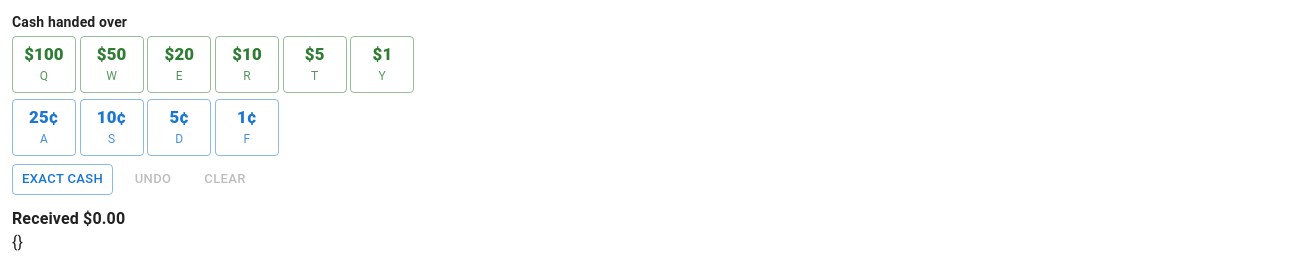
CashTenderPad (2026-10-21, cash by denomination) › a right-click takes one back; Exact cash fills the amount due; Clear empties it
Click the button "Exact cash" at {"x": 63, "y": 180}, box [12,164,113,195]
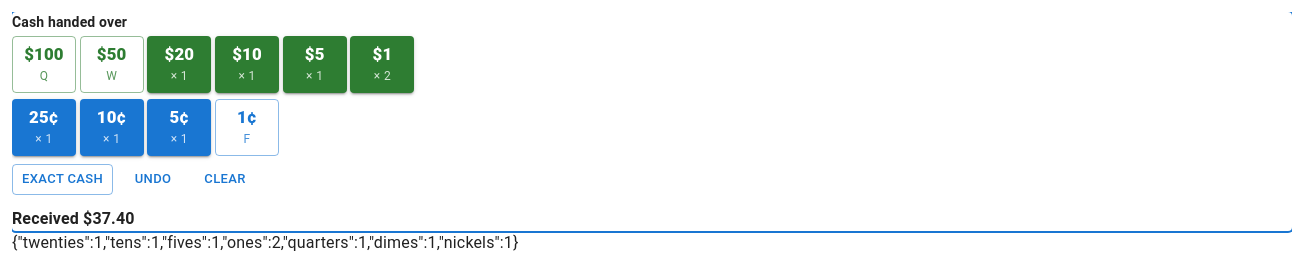
Expected: the text with test id "state" reads "{\"twenties\":1,\"tens\":1,\"fives\":1,\"ones\":2,\"quarters\":1,\"dimes\":1,\"nickels\":1}", [12,233,519,252]
Right-click the button with test id "cash-twenties" at {"x": 179, "y": 65}, box [147,36,211,93]
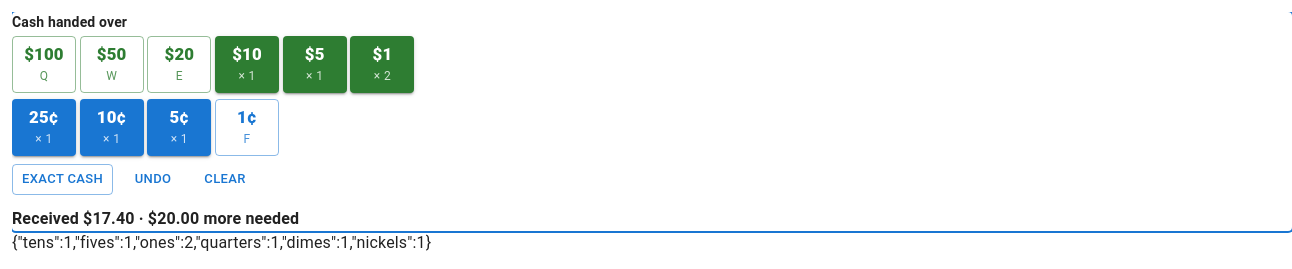
Expected: the text with test id "state" no longer shows "twenties", [12,233,431,252]
Click the button "Clear" at {"x": 225, "y": 180}, box [193,164,257,195]
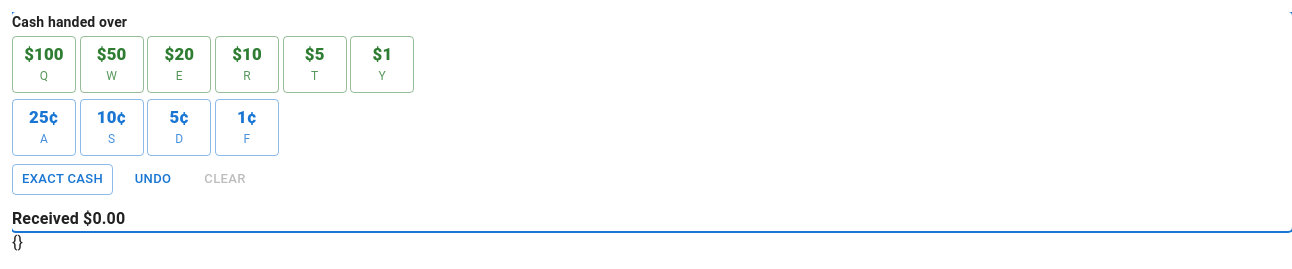
Expected: the text with test id "state" reads "{}", [12,233,23,252]
